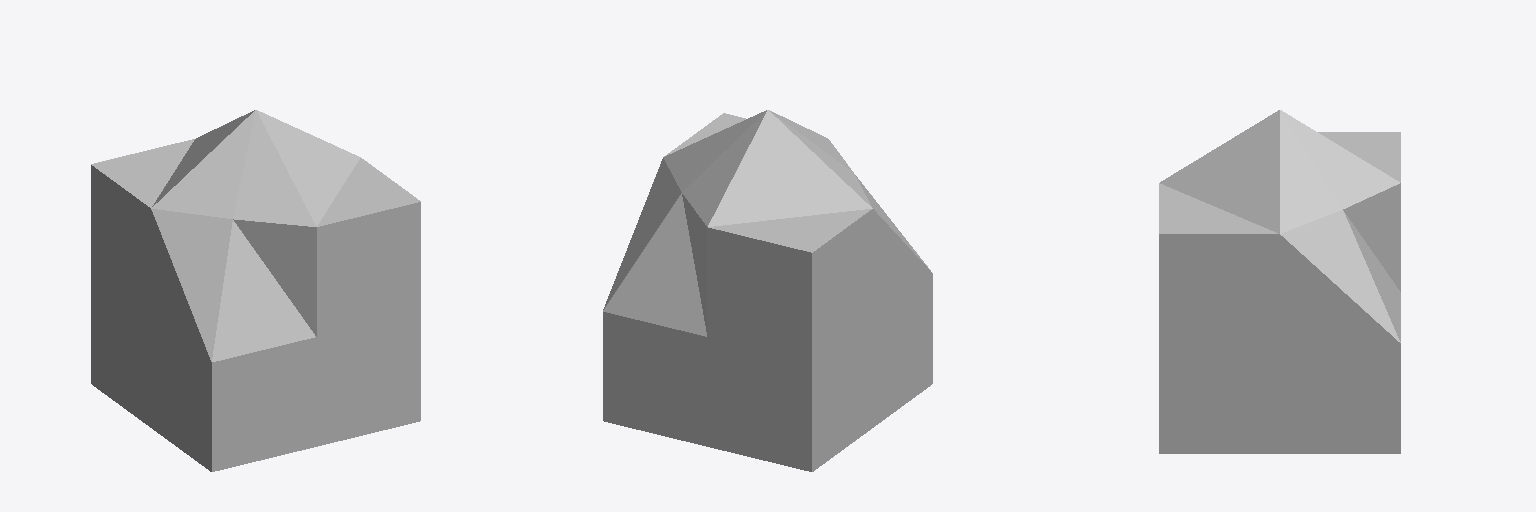
Rendered from myModel2.obj.
3 views of the same model, side by side, from view 1: azimuth 30°, elevation 25°; view 2: azimuth 150°, elevation 25°; view 3: azimuth 270°, elevation 25° (orthographic).
Parts seen in each view (by area): view 1: Cube; view 2: Cube; view 3: Cube.
Part boxes in pixels (x1,y1,x2,y2): Cube: (91, 110, 420, 471); Cube: (603, 110, 932, 471); Cube: (1159, 110, 1400, 453).
Size of the model in its own units: 1 by 1.33 by 1.